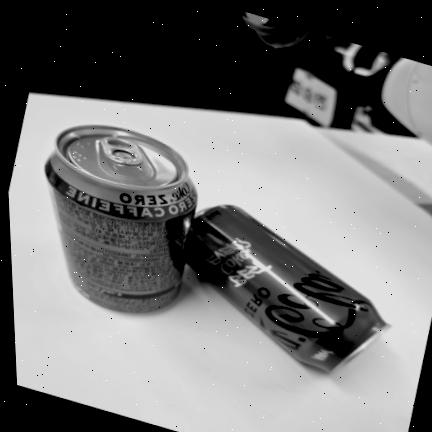can_coke_decaf: (45, 125, 196, 313)
can_coke_zero: (187, 205, 387, 371)
